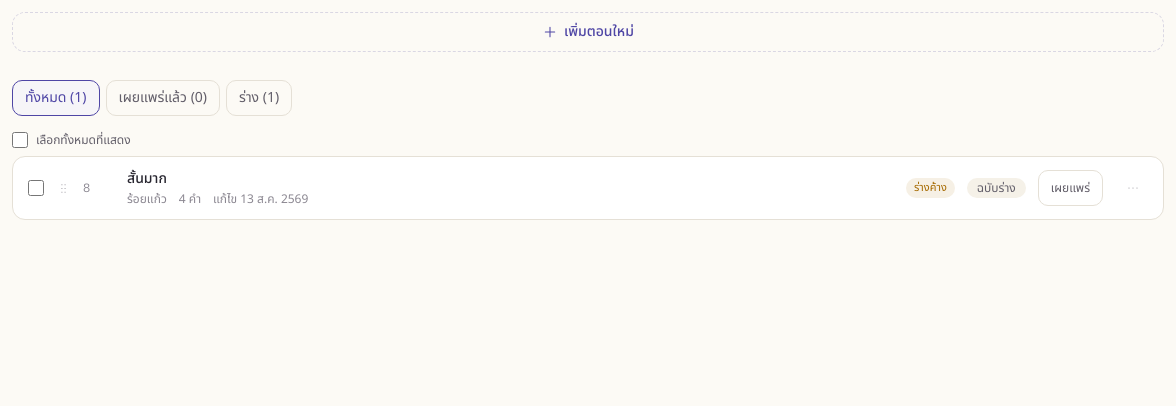
Test: publishing guards (#2, #8) › warns - without blocking - when a prose chapter is only a few words
This screenshot has width=1176, height=406.
Click the button "เผยแพร่": (1070, 188) [1038,170,1103,206]
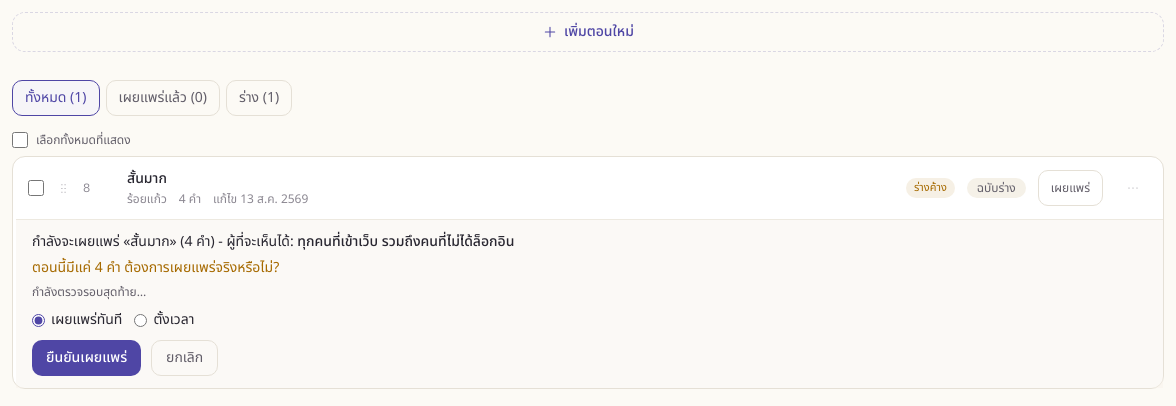
Check: the text "ตอนนี้มีแค่ 4 คำ ต้องการเผยแพร่จริงหรือไม่?" is shown, box [32,257,279,278]
Check: the button "ยืนยันเผยแพร่" is enabled, box [32,340,141,376]
